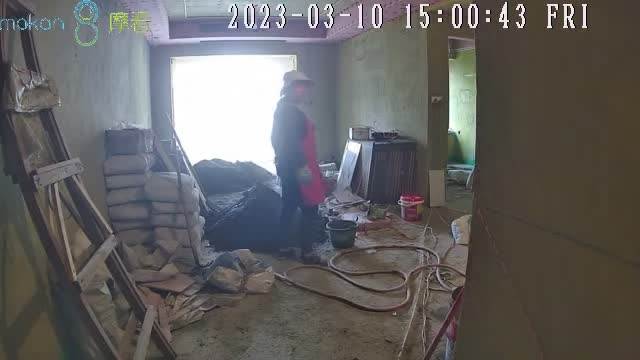people: (270, 69, 327, 265)
window: (172, 57, 275, 168)
